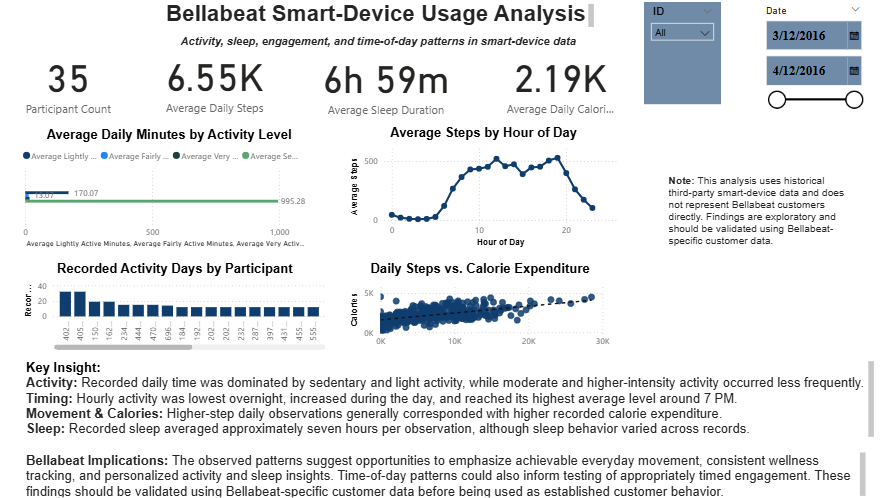

This screenshot's page, from the dashboard's own definition file:
{"tool":"powerbi","page":{"name":"Page 1","canvas":[1280,720],"ordinal":0},"visuals":[{"type":"card","fields":{"Values":["dailyActivity_merged.Average Daily Steps"]},"box":[228.7,63.8,164.8,109.9],"z":0},{"type":"card","fields":{"Values":["Participants.Participant Count"]},"box":[20,66.3,164,110],"z":1000},{"type":"card","fields":{"Values":["dailyActivity_merged.Average Daily Calories"]},"box":[723.2,66.3,164,109.9],"z":2000},{"type":"clusteredBarChart","title":"Average Daily Minutes by Activity Level","fields":{"Y":["dailyActivity_merged.Average Lightly Active Minutes","dailyActivity_merged.Average Fairly Active Minutes","dailyActivity_merged.Average Very Active Minutes","dailyActivity_merged.Average Sedentary Minutes"]},"box":[31.2,185.1,429.1,176.7],"z":3000},{"type":"lineChart","title":"Average Steps by Hour of Day","fields":{"Y":["hourlySteps_merged.Average Hourly Steps"],"Category":["hourlySteps_merged.Hour"]},"box":[500.4,182.2,390.5,179.7],"z":4000},{"type":"clusteredColumnChart","title":"Recorded Activity Days by Participant","fields":{"Y":["dailyActivity_merged.Recorded Activity Days"],"Category":["Participants.Id"]},"box":[34.2,376.7,439.5,132.2],"z":5000},{"type":"scatterChart","title":"Daily Steps vs. Calorie Expenditure","fields":{"X":["Sum(dailyActivity_merged.TotalSteps)"],"Y":["Sum(dailyActivity_merged.Calories)"],"Category":["dailyActivity_merged.ActivityKey"]},"box":[500.4,376.7,380.1,132.2],"z":6000},{"type":"slicer","fields":{"Values":["Participants.Id"]},"box":[924.5,7.7,110,145.8],"z":7000},{"type":"slicer","fields":{"Values":["Date.Date"]},"box":[1085.6,6.4,159.8,167.5],"z":8000},{"type":"card","fields":{"Values":["sleepDay_merged.Average Sleep Duration"]},"box":[460.3,66.8,191.6,109.9],"z":9000},{"type":"textbox","box":[236.1,3,622.2,44.5],"z":10000},{"type":"textbox","box":[256.7,50.2,580.3,31.2],"z":11000},{"type":"textbox","box":[35.6,513.8,1222.1,118.8],"z":12000},{"type":"textbox","box":[35.6,645.9,1210.2,74.2],"z":13000},{"type":"textbox","box":[953.9,248.1,263.4,113.8],"z":14000}]}

Visuals, with their boxes in screenshot pixels (x1, y1, x2, y2), scaled from the page's 1280x720 canvas onto the 891x498 screenshot:
card - dailyActivity_merged.Average Daily Steps: 159, 44, 274, 120
card - Participants.Participant Count: 14, 46, 128, 122
card - dailyActivity_merged.Average Daily Calories: 503, 46, 618, 122
"Average Daily Minutes by Activity Level" clusteredBarChart: 22, 128, 320, 250
"Average Steps by Hour of Day" lineChart: 348, 126, 620, 250
"Recorded Activity Days by Participant" clusteredColumnChart: 24, 261, 330, 352
"Daily Steps vs. Calorie Expenditure" scatterChart: 348, 261, 613, 352
slicer - Participants.Id: 644, 5, 720, 106
slicer - Date.Date: 756, 4, 867, 120
card - sleepDay_merged.Average Sleep Duration: 320, 46, 454, 122
textbox: 164, 2, 597, 33
textbox: 179, 35, 583, 56
textbox: 25, 355, 875, 438
textbox: 25, 447, 867, 497
textbox: 664, 172, 847, 250
